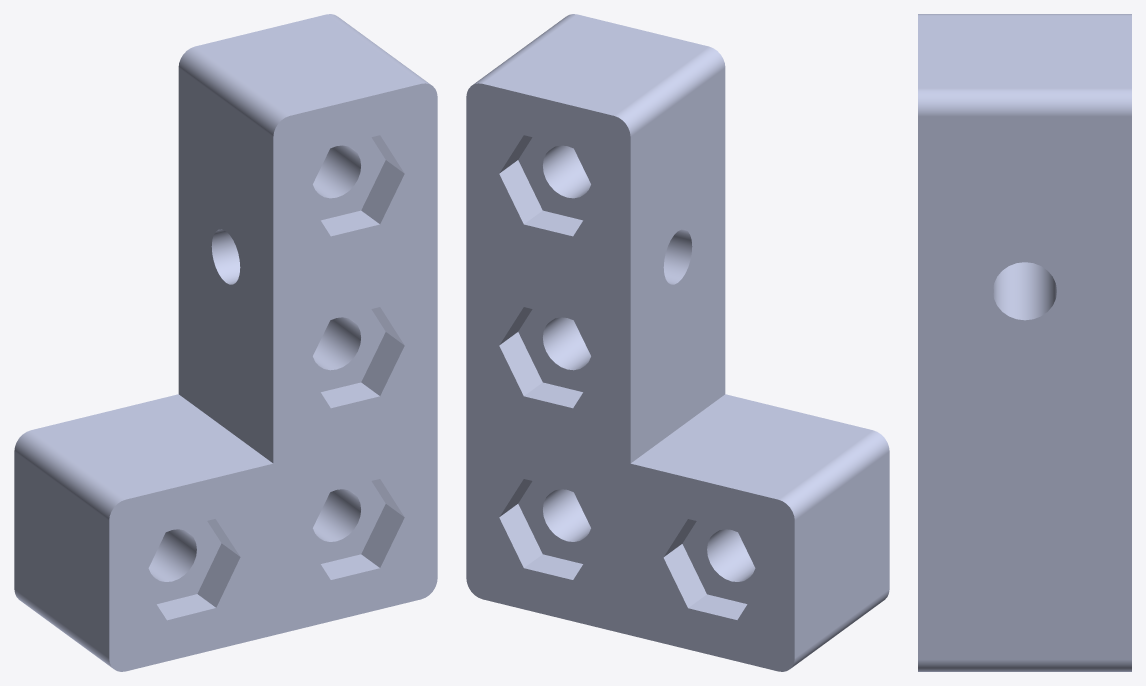
The picture shows the model from 3 angles, left to right: view 1: azimuth 30°, elevation 25°; view 2: azimuth 150°, elevation 25°; view 3: azimuth 270°, elevation 25°; orthographic projection. The views are drawn at different scales.
Parts seen in each view (by area): view 1: L4S; view 2: L4S; view 3: L4S.
Boxes of the visible parts, bbox=[...] form: L4S: bbox=[14, 14, 437, 671]; L4S: bbox=[466, 14, 889, 671]; L4S: bbox=[918, 14, 1131, 671].
Size of the model in its own units: 0.02 by 0.03 by 0.01.
